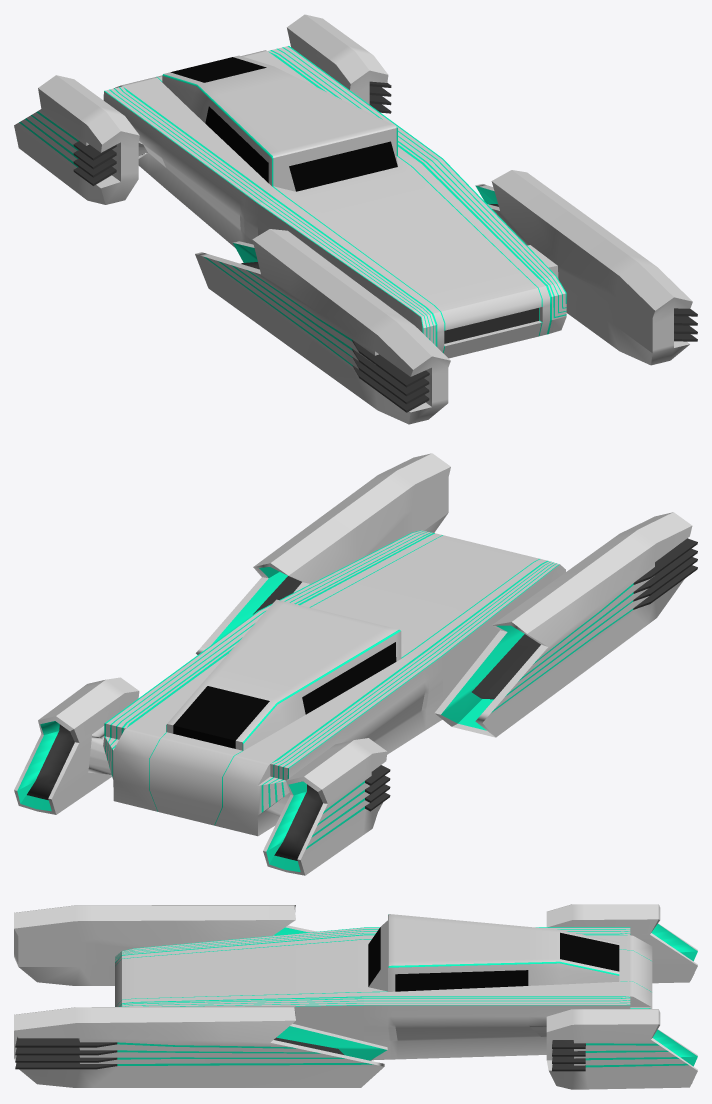
File: limoV0.0.01.fbx
3 renders of one model, top to bottom at view 1: azimuth 30°, elevation 25°; view 2: azimuth 150°, elevation 25°; view 3: azimuth 270°, elevation 25°, orthographic. The views are drawn at different scales.
Visible parts, largest first — view 1: Limo; view 2: Limo; view 3: Limo.
Part boxes in pixels (left/top/right/bottom): Limo: left=14, top=14, right=697, bottom=424; Limo: left=14, top=453, right=697, bottom=875; Limo: left=14, top=904, right=697, bottom=1089.
Bounding box in the file's own units: 238 × 78.35 × 548.
